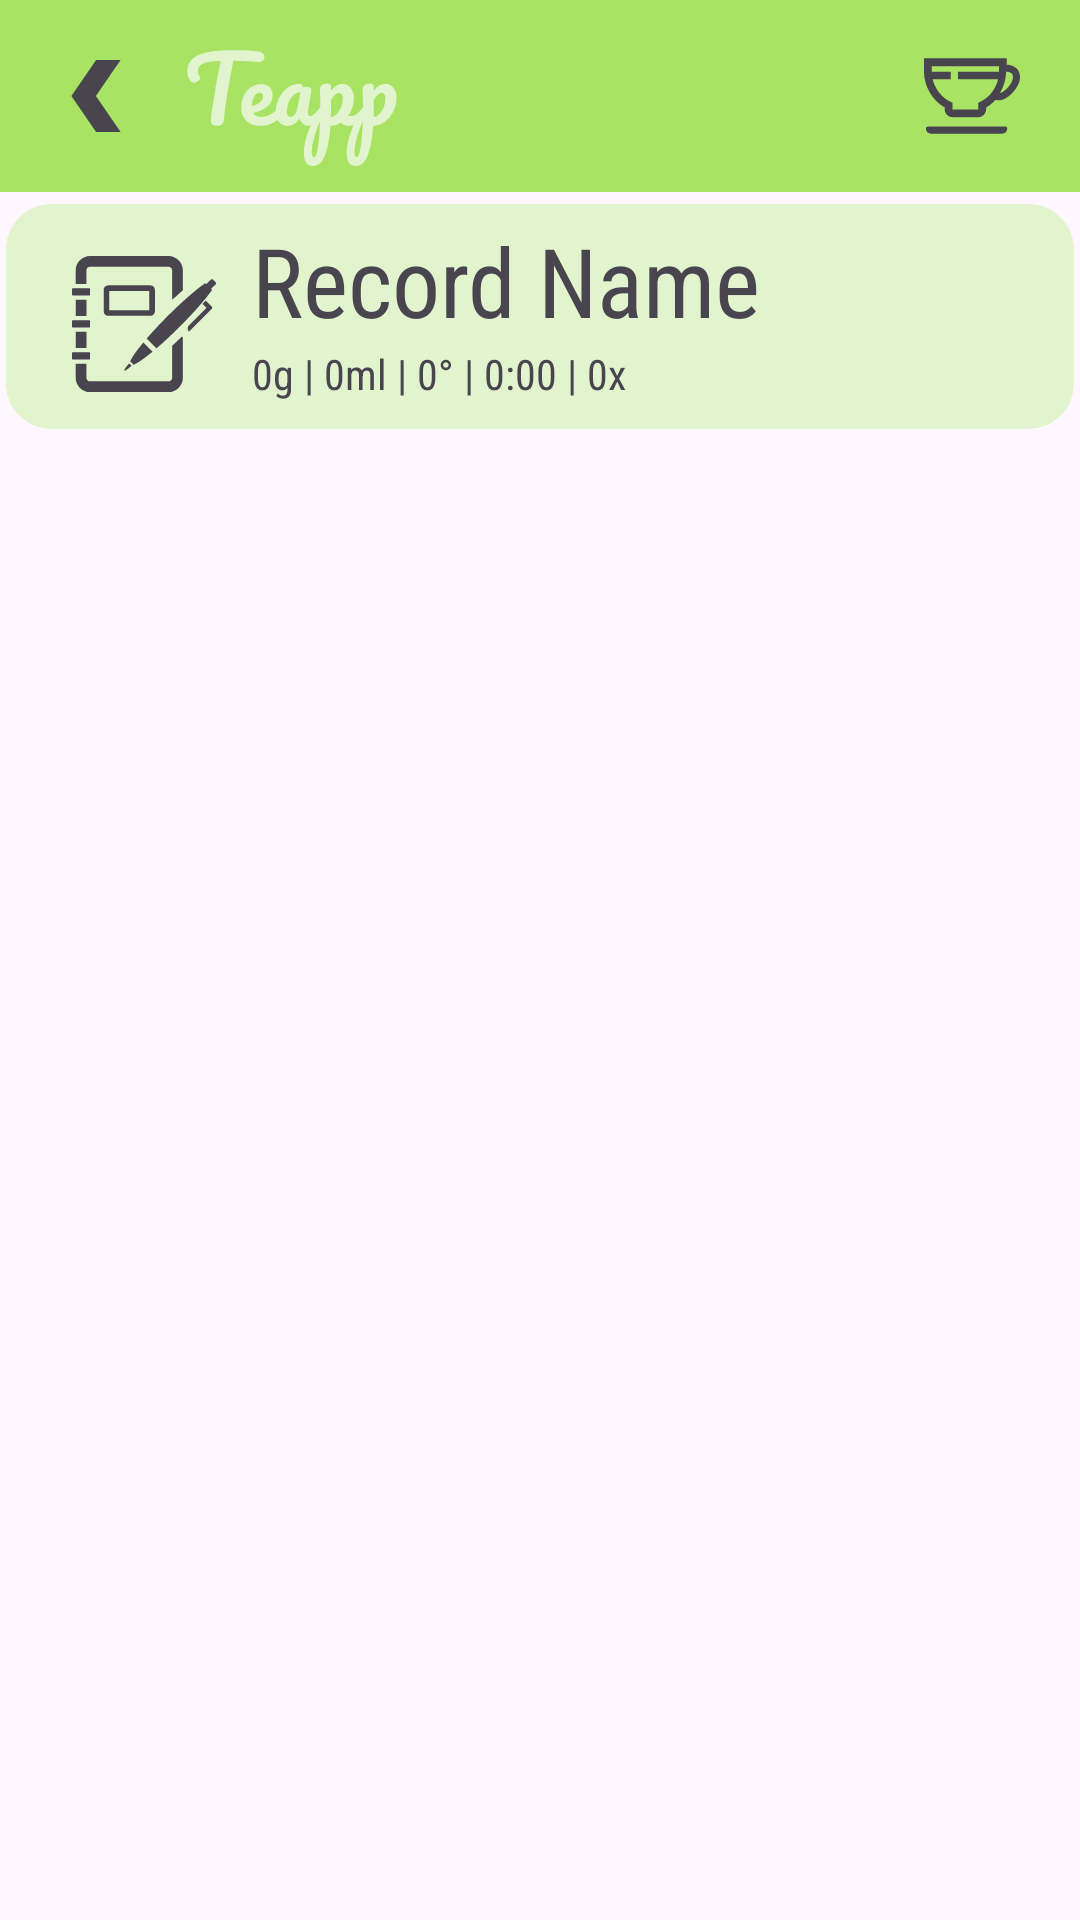

Named icons in this screenshot (1080×1920) and their centers, [x,y]:
Back: [96,96]
notepad: [144,324]
Čaj: [972,96]
